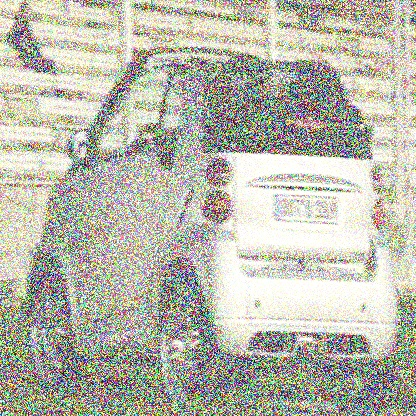Vehicle: (25, 24, 400, 414)
